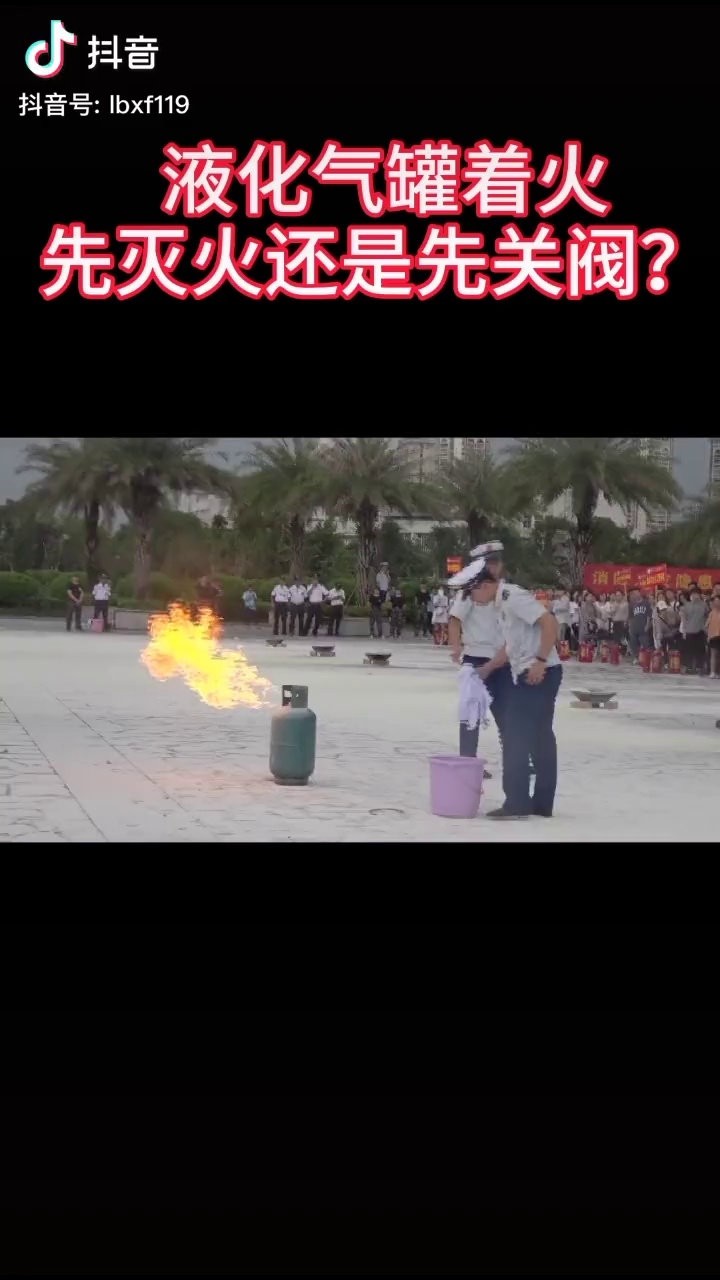fire: (131, 590, 274, 728)
